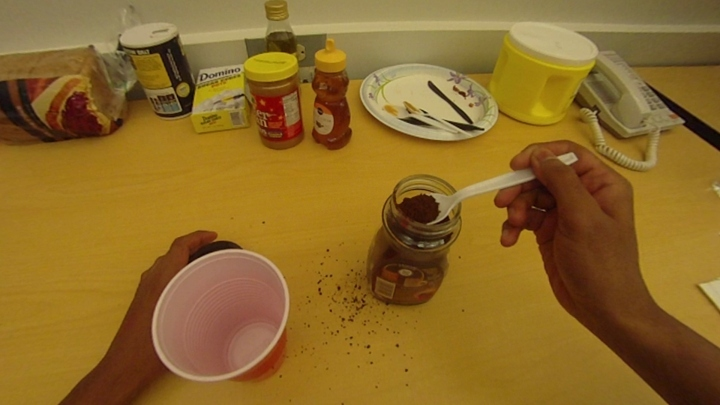hand: (498, 137, 651, 320), (128, 225, 229, 375)
